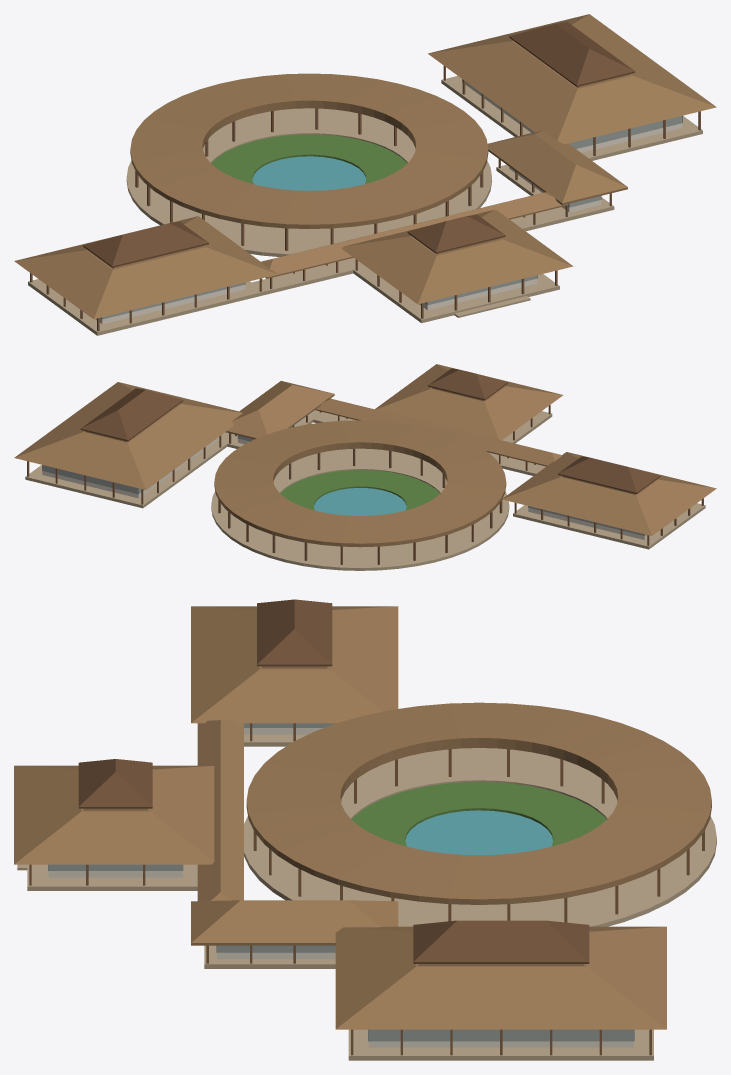
File: wellness-spa.glb
The picture shows the model from 3 angles, top to bottom: view 1: azimuth 30°, elevation 25°; view 2: azimuth 150°, elevation 25°; view 3: azimuth 270°, elevation 25°; orthographic projection. The views are drawn at different scales.
Visible parts, largest first — view 1: Wellness Spa | roof, Wellness Spa | stone, Wellness Spa | roof dark, Wellness Spa | planting, Wellness Spa | plaster, Wellness Spa | water, Wellness Spa | timber, Wellness Spa | glass; view 2: Wellness Spa | roof, Wellness Spa | stone, Wellness Spa | roof dark, Wellness Spa | planting, Wellness Spa | plaster, Wellness Spa | water, Wellness Spa | timber, Wellness Spa | glass; view 3: Wellness Spa | roof, Wellness Spa | stone, Wellness Spa | roof dark, Wellness Spa | plaster, Wellness Spa | planting, Wellness Spa | glass, Wellness Spa | water, Wellness Spa | timber, Wellness Spa | timber light.
Boxes of the visible parts, x1=… form: Wellness Spa | roof: x1=14, y1=14, x2=716, y2=319; Wellness Spa | stone: x1=28, y1=76, x2=702, y2=335; Wellness Spa | roof dark: x1=83, y1=22, x2=635, y2=267; Wellness Spa | planting: x1=211, y1=134, x2=407, y2=183; Wellness Spa | plaster: x1=95, y1=79, x2=682, y2=324; Wellness Spa | water: x1=252, y1=156, x2=365, y2=190; Wellness Spa | timber: x1=30, y1=66, x2=700, y2=331; Wellness Spa | glass: x1=101, y1=115, x2=682, y2=319; Wellness Spa | roof: x1=14, y1=364, x2=716, y2=547; Wellness Spa | stone: x1=25, y1=410, x2=705, y2=570; Wellness Spa | roof dark: x1=80, y1=368, x2=660, y2=493; Wellness Spa | planting: x1=280, y1=470, x2=439, y2=510; Wellness Spa | plaster: x1=42, y1=412, x2=650, y2=539; Wellness Spa | water: x1=314, y1=488, x2=406, y2=515; Wellness Spa | timber: x1=27, y1=405, x2=703, y2=564; Wellness Spa | glass: x1=42, y1=435, x2=645, y2=535; Wellness Spa | roof: x1=14, y1=606, x2=711, y2=1029; Wellness Spa | stone: x1=17, y1=734, x2=716, y2=1060; Wellness Spa | roof dark: x1=78, y1=599, x2=589, y2=963; Wellness Spa | plaster: x1=48, y1=723, x2=633, y2=1047; Wellness Spa | planting: x1=352, y1=782, x2=606, y2=846; Wellness Spa | glass: x1=48, y1=723, x2=634, y2=1041; Wellness Spa | water: x1=405, y1=810, x2=552, y2=855; Wellness Spa | timber: x1=29, y1=723, x2=704, y2=1055; Wellness Spa | timber light: x1=83, y1=666, x2=584, y2=965.
Size of the model in its own units: 124 by 12.62 by 85.36.
